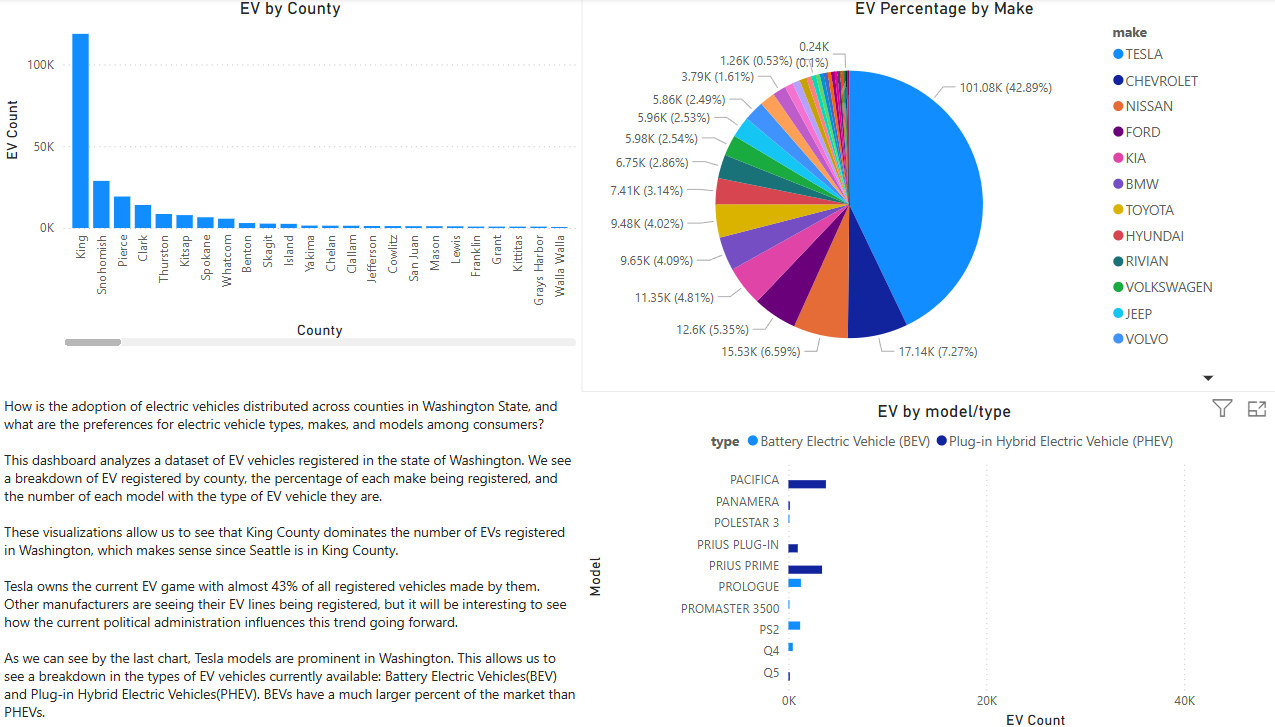

Layout of this report page (visuals, bound fields, positions):
{"tool":"powerbi","page":{"name":"washington_evs","canvas":[1280,720],"ordinal":0},"visuals":[{"type":"clusteredColumnChart","title":"EV by County","fields":{"Category":["total_ev_by_county.County"],"Y":["Sum(total_ev_by_county.Total_EV_Vehicles)"]},"box":[0,0,569.8,346.1],"z":0},{"type":"clusteredBarChart","title":"EV by model/type","fields":{"Category":["ev_type.model"],"Series":["ev_type.type"],"Y":["Sum(ev_type.vehicle_count)"]},"box":[569.6,394,710.1,326],"z":1000},{"type":"pieChart","title":"EV Percentage by Make","fields":{"Y":["CountNonNull(ev_make_model.make)"],"Category":["ev_make_model.make"]},"box":[569.6,0,710.1,385.1],"z":2000},{"type":"textbox","box":[0,385.2,569.8,335.1],"z":2001}]}

Visuals, with their boxes in screenshot pixels (x1, y1, x2, y2), scaled from the page's 1280x720 canvas onto the 1275x727 screenshot:
"EV by County" clusteredColumnChart: <region>0, 0, 568, 349</region>
"EV by model/type" clusteredBarChart: <region>567, 398, 1274, 726</region>
"EV Percentage by Make" pieChart: <region>567, 0, 1274, 389</region>
textbox: <region>0, 389, 568, 726</region>
